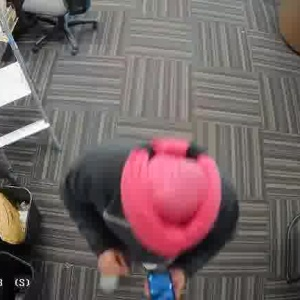person: (80, 134, 232, 292)
